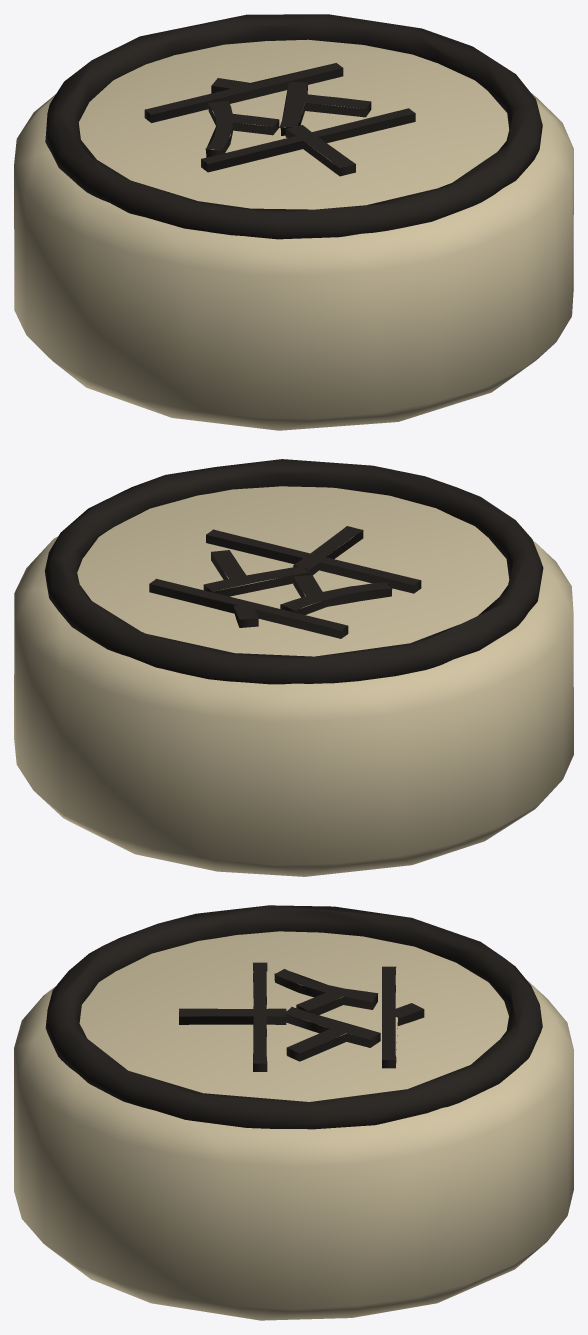
File: quan_den_tot.glb
3 renders of one model, top to bottom at view 1: azimuth 30°, elevation 25°; view 2: azimuth 150°, elevation 25°; view 3: azimuth 270°, elevation 25°, orthographic.
Visible parts, largest first — view 1: quan_den_tot; view 2: quan_den_tot; view 3: quan_den_tot.
Part boxes in pixels (box(x1,y1,x2,y2)): quan_den_tot: box(14, 14, 573, 430); quan_den_tot: box(14, 459, 573, 876); quan_den_tot: box(14, 905, 573, 1320).
Bounding box in the file's own units: 0.0366 × 0.0153 × 0.0366.
